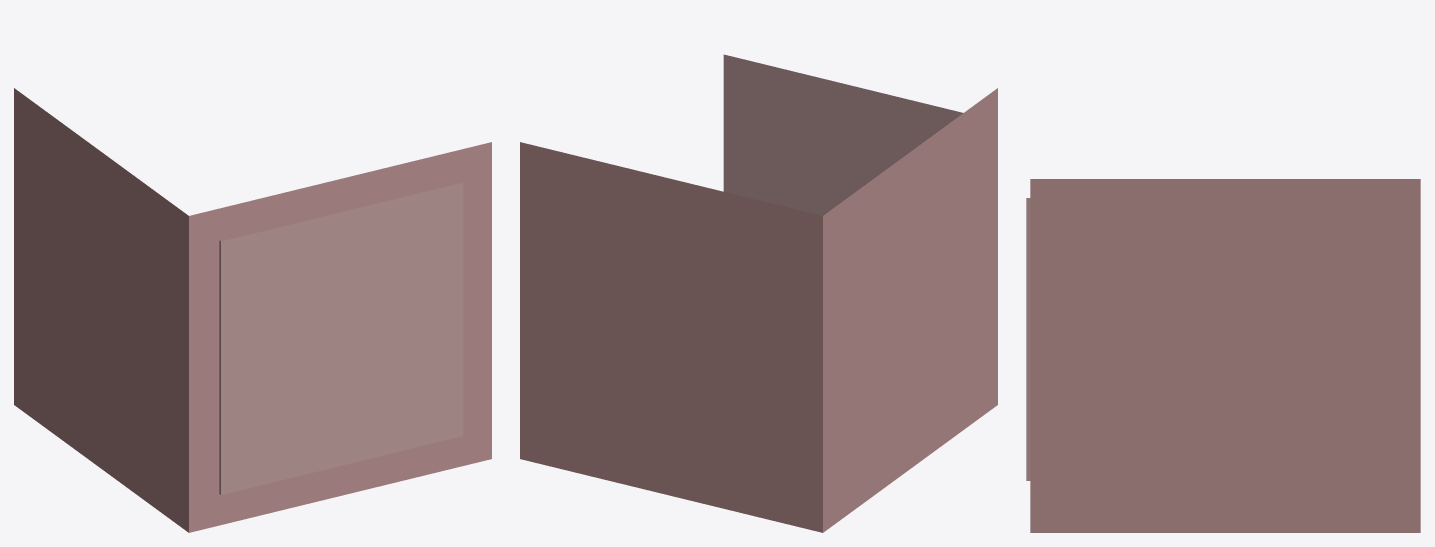
File: Wall-pink.glb
The picture shows the model from 3 angles, left to right: view 1: azimuth 30°, elevation 25°; view 2: azimuth 150°, elevation 25°; view 3: azimuth 270°, elevation 25°; orthographic projection. The views are drawn at different scales.
Visible parts, largest first — view 1: Wall; view 2: Wall; view 3: Wall.
Part boxes in pixels (x1,y1,x2,y2): Wall: (14,88,491,532); Wall: (520,54,997,532); Wall: (1026,179,1420,532).
Size of the model in its own units: 1 by 1 by 1.01.
